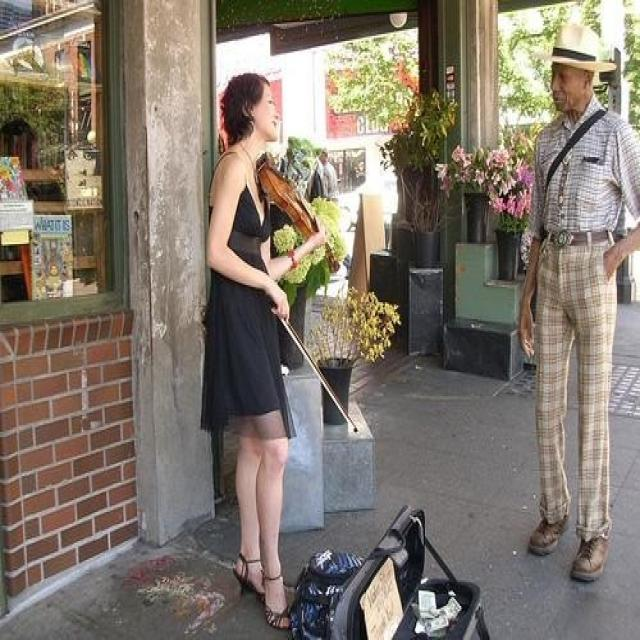violin: (257, 145, 341, 272)
